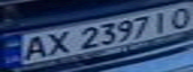2: (75, 24, 103, 51)
3: (96, 20, 121, 47)
7: (130, 14, 154, 38)
9: (115, 17, 139, 43)
A: (15, 34, 54, 62)
I: (148, 9, 175, 34)
O: (163, 3, 193, 29)
X: (39, 29, 75, 57)
